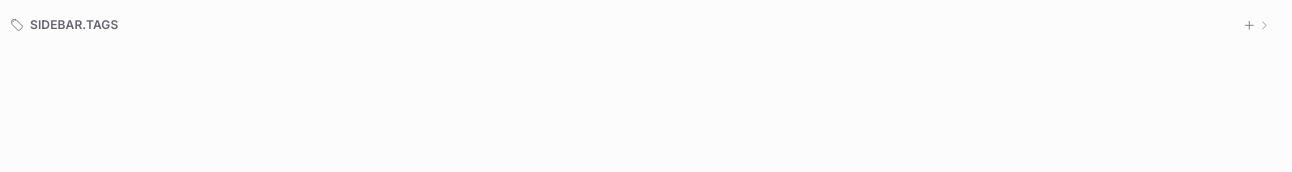
SidebarTags with its count badge hidden › hides the count but can still be expanded
The width and height of the screenshot is (1292, 172).
Click the button named "Expand or collapse" at (1265, 25), box [1252, 12, 1277, 38]
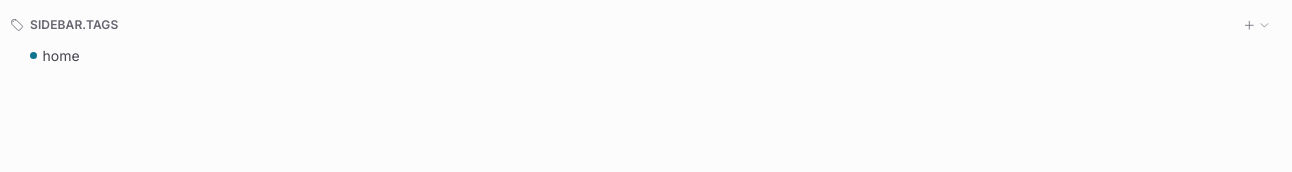
Expected: the element with test id "sidebar-tag-home1" is shown, [0, 38, 1280, 73]
